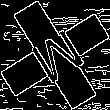M_SE: (22, 21, 88, 89)
